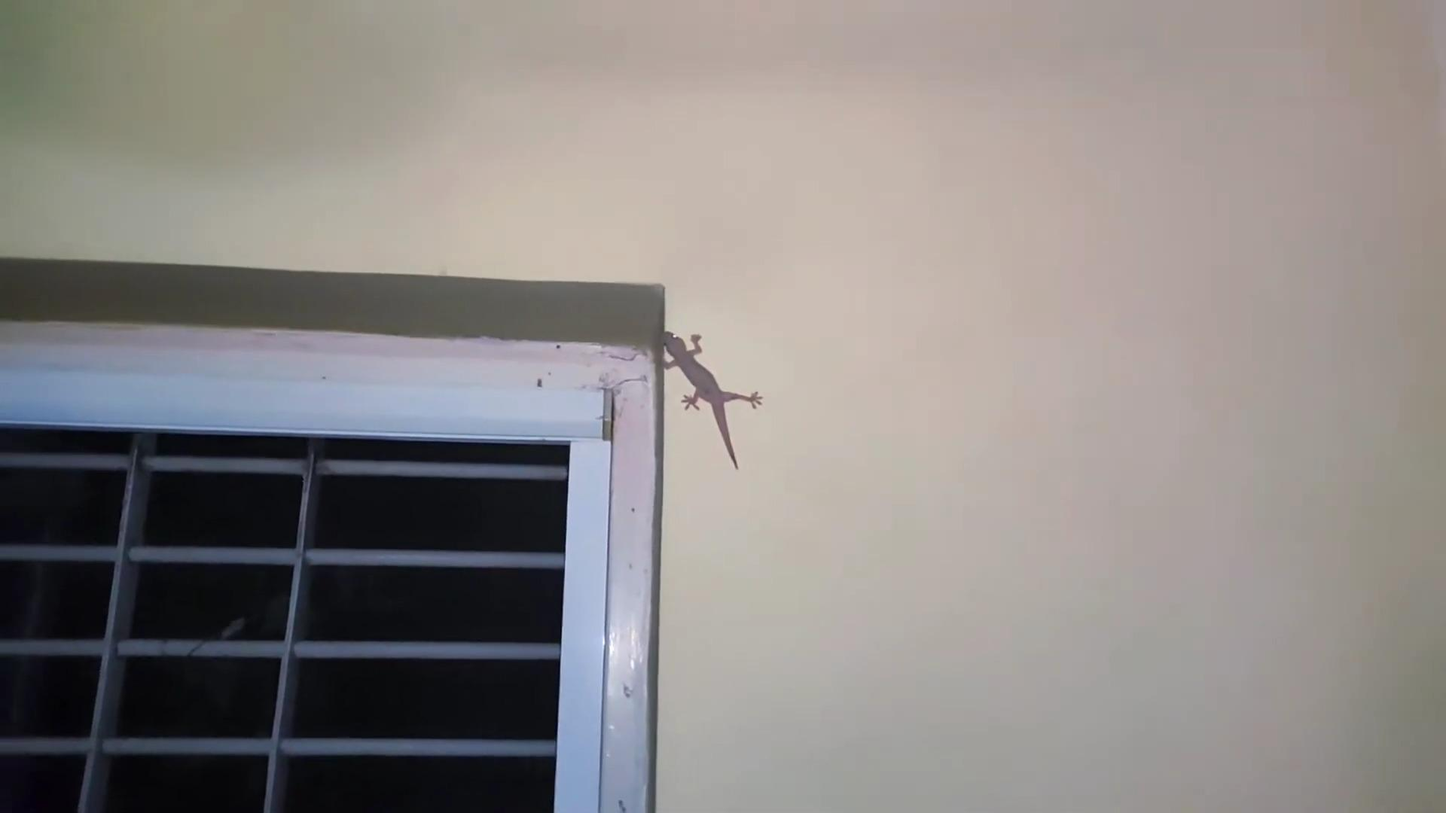lizard: (656, 322, 766, 474)
